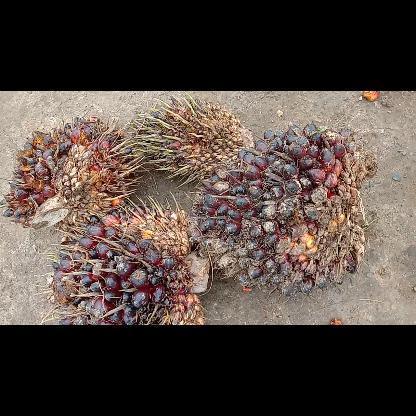Kurang masak: (193, 122, 377, 294), (47, 208, 209, 324)
TBS abnormal: (134, 97, 254, 180)
TBS masak: (4, 113, 132, 227)
